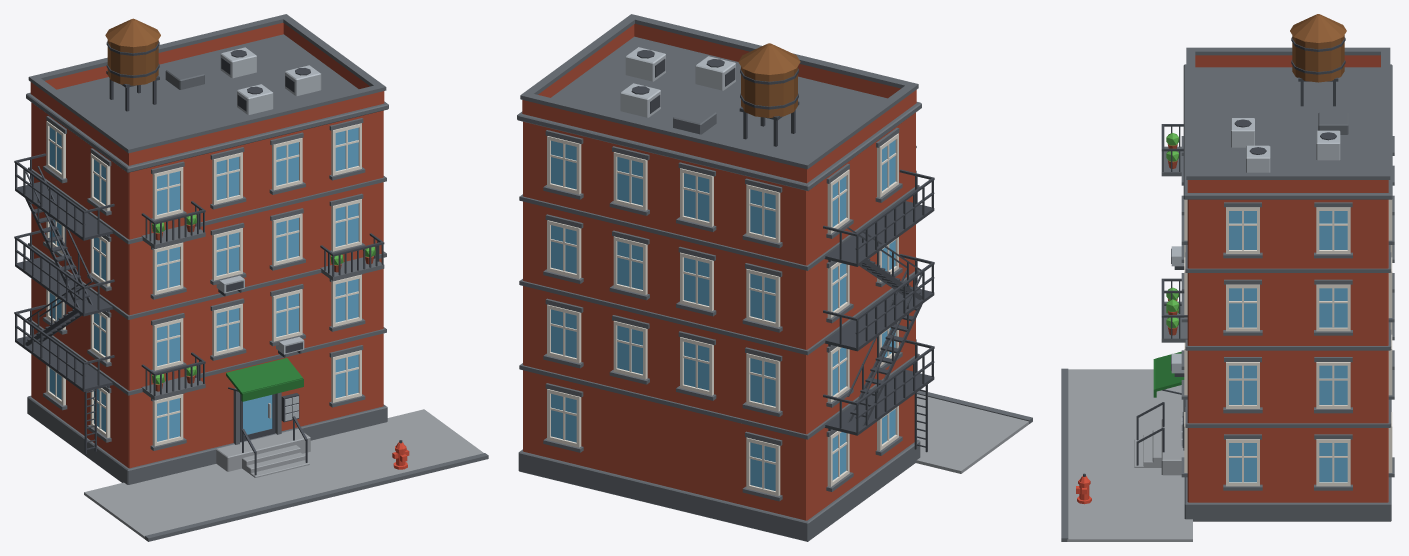
File: brick-city-apartment.glb
3 views of the same model, side by side, from view 1: azimuth 30°, elevation 25°; view 2: azimuth 150°, elevation 25°; view 3: azimuth 270°, elevation 25° (orthographic). The views are drawn at different scales.
Parts seen in each view (by area): view 1: Apt_Brick, Apt_StoneDark, Apt_Stone, Apt_Iron, Apt_Cream, Apt_Glass, Apt_Metal, Apt_WoodDark, Apt_FoliageDark, Door, Apt_Foliage; view 2: Apt_Brick, Apt_StoneDark, Apt_Cream, Apt_Glass, Apt_Iron, Apt_Stone, Apt_WoodDark, Apt_Metal; view 3: Apt_Brick, Apt_StoneDark, Apt_Stone, Apt_Glass, Apt_Cream, Apt_WoodDark, Apt_Iron, Apt_Metal, Apt_FoliageDark, Apt_Foliage.
Boxes of the visible parts, box(x1,y1,x2,y2) form: Apt_Brick: box(30, 23, 384, 468); Apt_StoneDark: box(26, 14, 488, 541); Apt_Stone: box(84, 409, 483, 538); Apt_Iron: box(14, 41, 402, 475); Apt_Cream: box(46, 121, 361, 446); Apt_Glass: box(49, 127, 358, 441); Apt_Metal: box(216, 47, 321, 420); Apt_WoodDark: box(105, 18, 160, 85); Apt_FoliageDark: box(226, 358, 303, 401); Door: box(240, 394, 275, 441); Apt_Foliage: box(152, 214, 375, 384); Apt_Brick: box(522, 23, 916, 520); Apt_StoneDark: box(517, 14, 1032, 541); Apt_Cream: box(547, 133, 898, 496); Apt_Glass: box(551, 140, 895, 490); Apt_Iron: box(631, 50, 934, 452); Apt_Stone: box(916, 394, 1028, 473); Apt_WoodDark: box(738, 43, 800, 117); Apt_Metal: box(620, 47, 735, 117); Apt_Brick: box(1167, 55, 1388, 502); Apt_StoneDark: box(1061, 47, 1394, 541); Apt_Stone: box(1067, 369, 1192, 541); Apt_Glass: box(1229, 211, 1347, 482); Apt_Cream: box(1184, 199, 1392, 486); Apt_WoodDark: box(1290, 14, 1346, 82); Apt_Iron: box(1083, 37, 1345, 476); Apt_Metal: box(1171, 118, 1340, 446); Apt_FoliageDark: box(1153, 351, 1184, 397); Apt_Foliage: box(1166, 133, 1179, 328).
Bounding box in the file's own units: 40 × 45.3 × 33.2.
